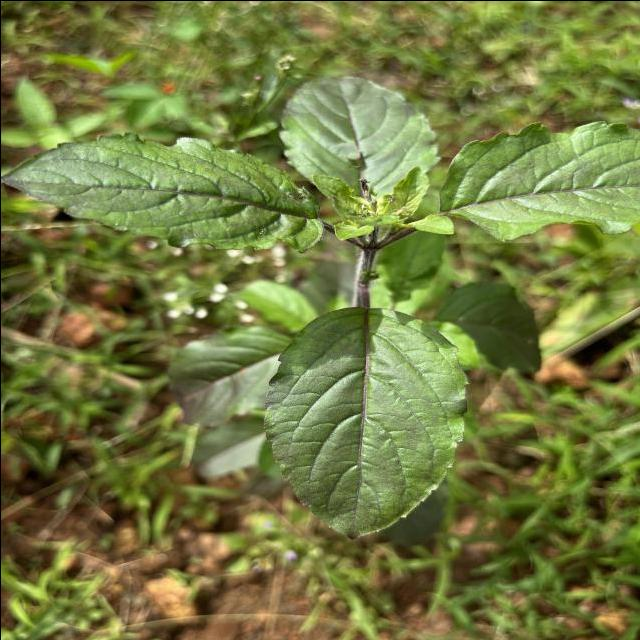Ocimum tenuiflorum: (261, 304, 469, 542), (0, 128, 326, 255)
